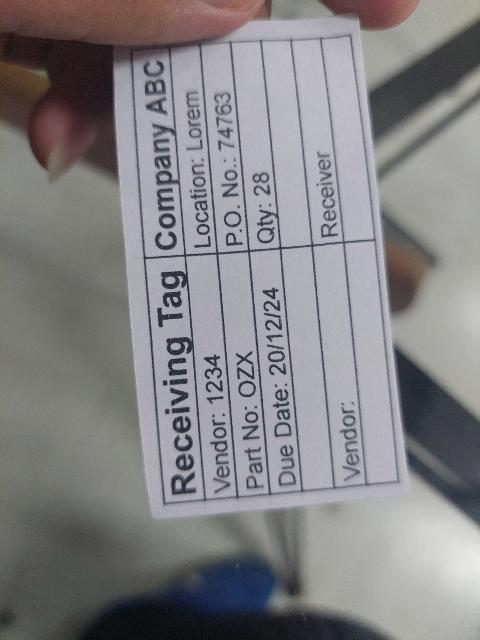PO no: (199, 44, 248, 256)
part no: (218, 250, 271, 497)
qty: (230, 40, 280, 251)
tags: (112, 12, 411, 524)
